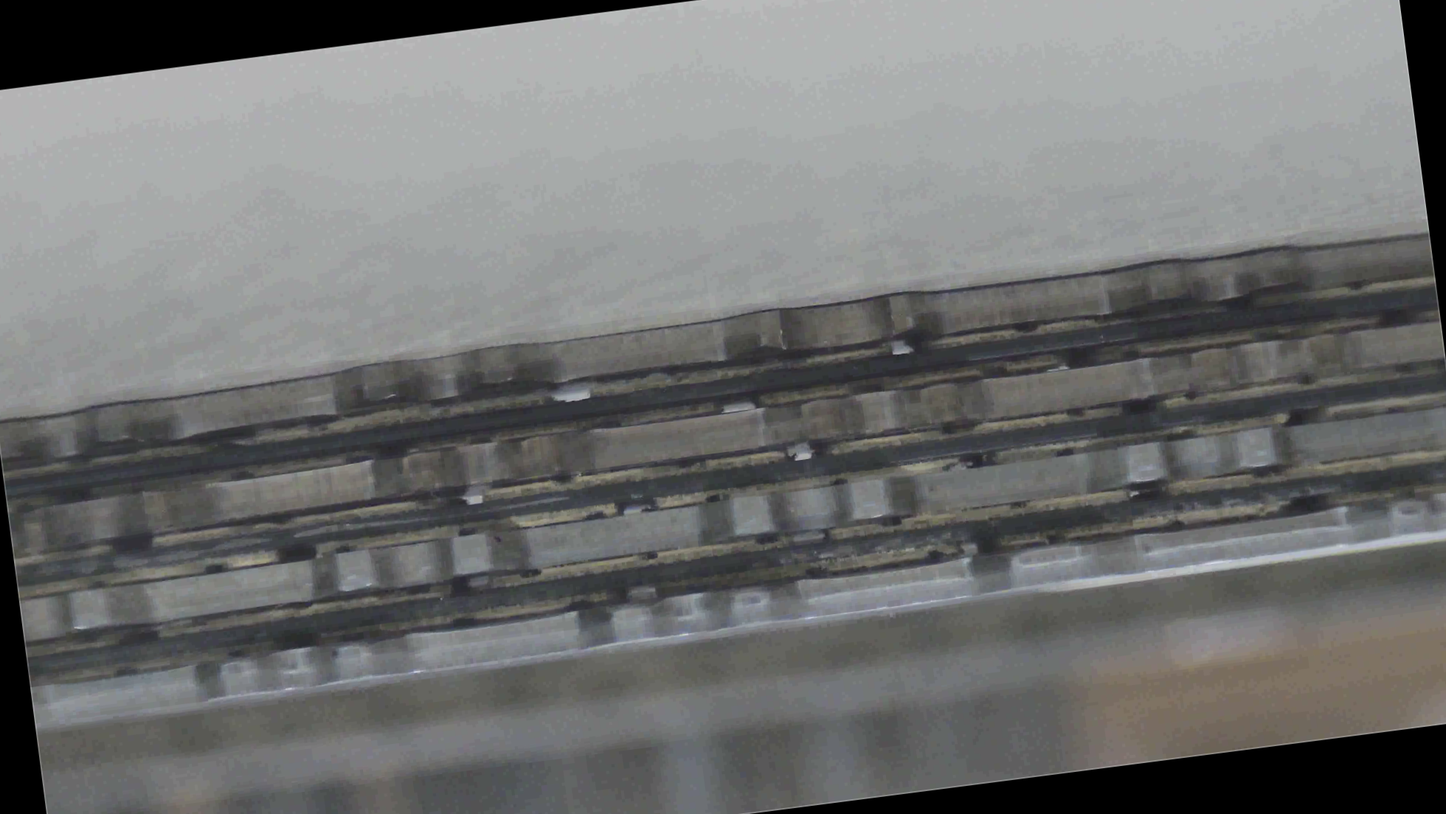Black metal plate: (0, 232, 1434, 467)
shiney metal plate: (95, 0, 1446, 459), (0, 495, 1441, 549), (17, 353, 1445, 403)
spacer: (36, 161, 1399, 676), (3, 213, 1445, 271), (0, 319, 1445, 350)
